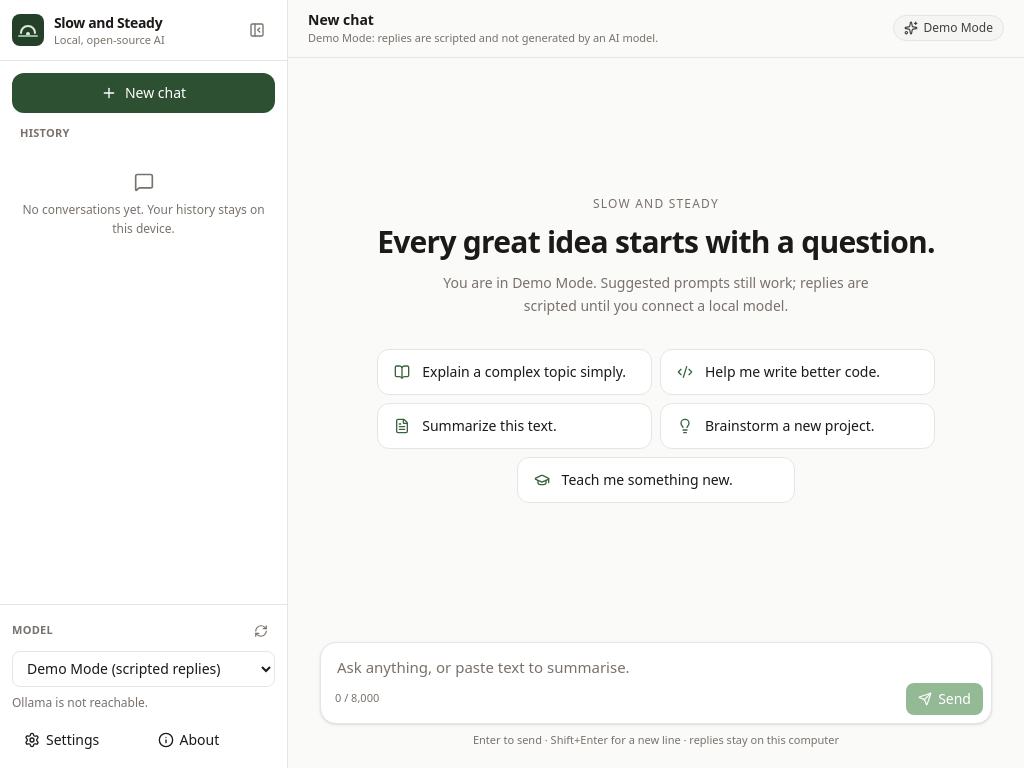
Test: Slow and Steady chat › clears the composer with the clear button
This screenshot has width=1024, height=768.
Type "draft text" into the text box with placeholder "Ask anything, or paste text to summarise.".
click(656, 662); type("draft text")  # box [321,642,991,682]
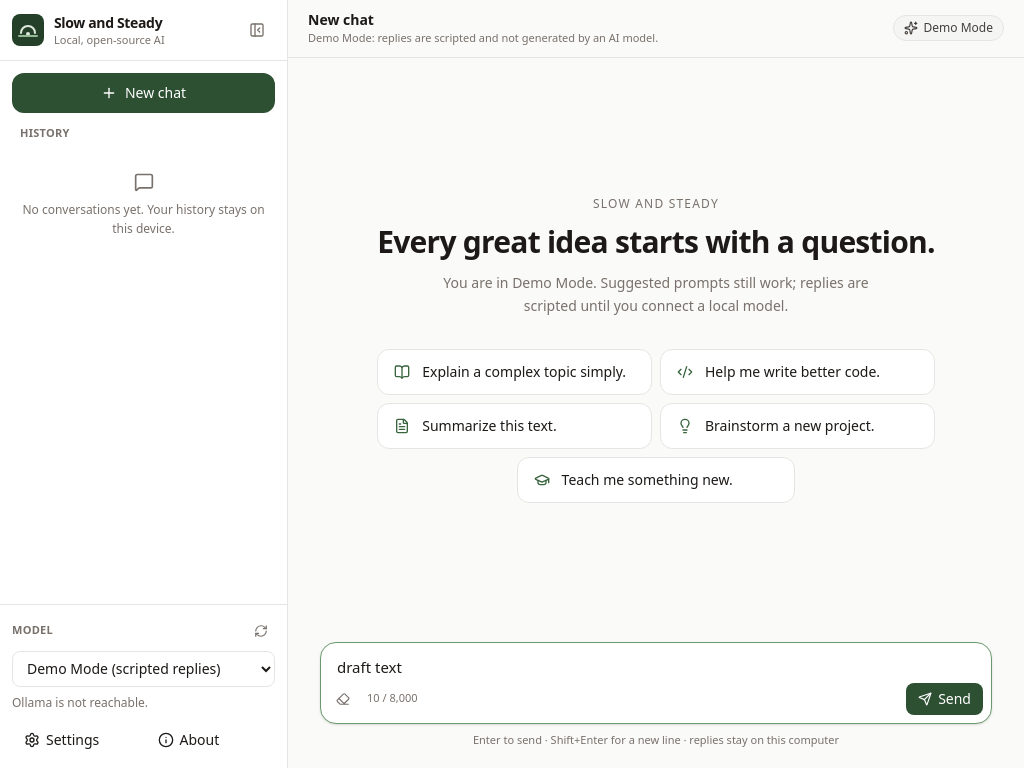
Click the button named "clear input".
click(343, 698)  # box [329,684,357,712]
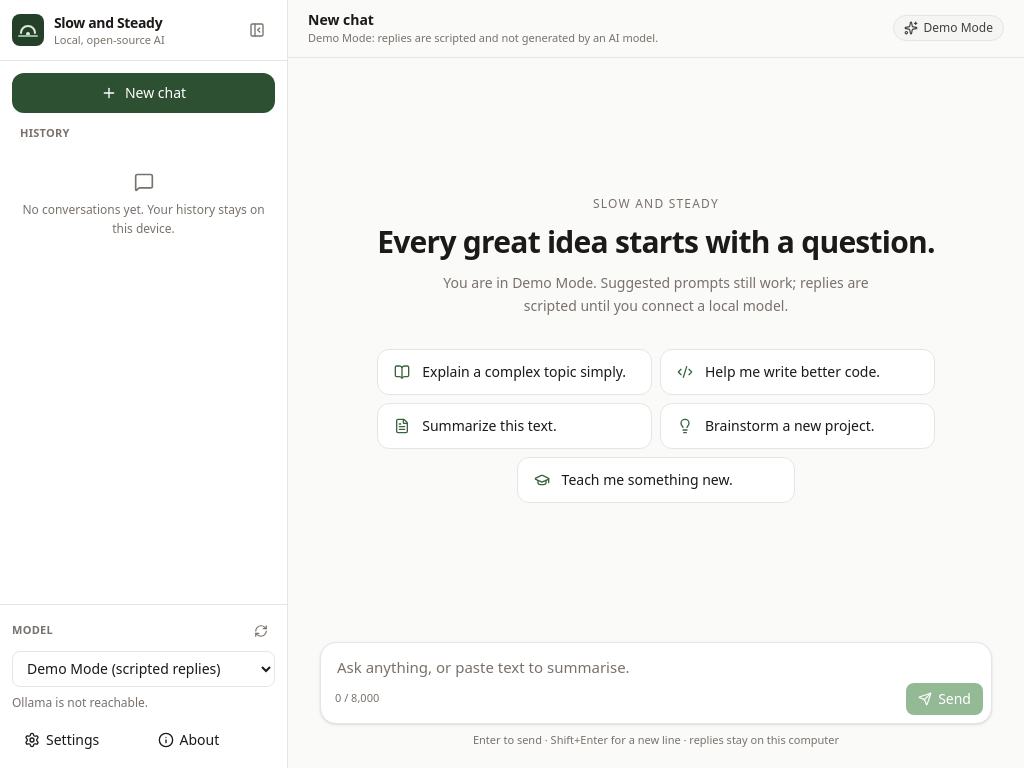
Check: the text box with placeholder "Ask anything, or paste text to summarise." is empty, box [321,642,991,682]
